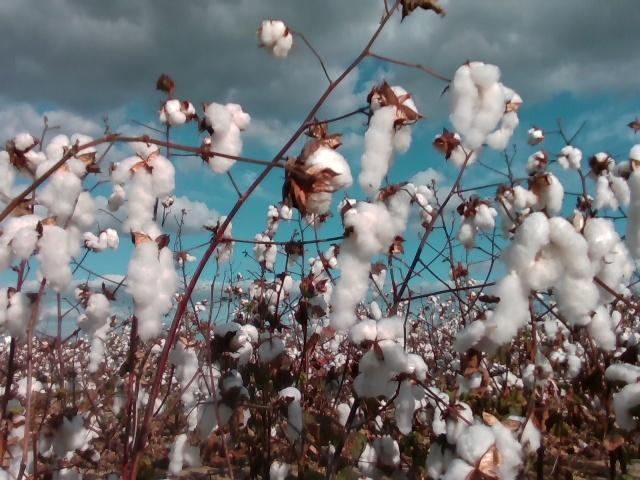cotton_ready: (0, 176, 94, 290), (556, 216, 635, 322), (330, 201, 394, 329), (502, 214, 595, 291), (184, 372, 252, 468), (123, 224, 176, 340), (110, 141, 177, 230), (362, 82, 415, 190), (353, 355, 428, 431), (457, 270, 529, 349), (446, 60, 506, 148), (443, 422, 520, 480), (299, 146, 355, 216), (427, 404, 477, 480), (330, 430, 404, 480), (270, 382, 306, 480), (203, 104, 251, 174), (0, 131, 48, 194), (36, 131, 97, 180), (351, 315, 403, 371), (0, 389, 30, 480), (78, 294, 112, 370), (488, 82, 524, 152), (591, 152, 631, 212), (609, 361, 640, 431), (47, 410, 91, 456), (383, 182, 420, 234), (169, 344, 199, 408), (212, 321, 252, 367), (168, 432, 206, 480), (458, 201, 498, 244), (257, 19, 294, 60), (0, 291, 34, 335), (505, 417, 545, 453), (529, 173, 564, 214), (586, 311, 619, 352), (434, 134, 478, 164), (498, 186, 538, 219), (617, 145, 640, 201), (159, 100, 196, 125), (84, 230, 120, 250)
